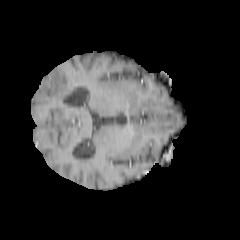glioma: (40, 68, 74, 103)
